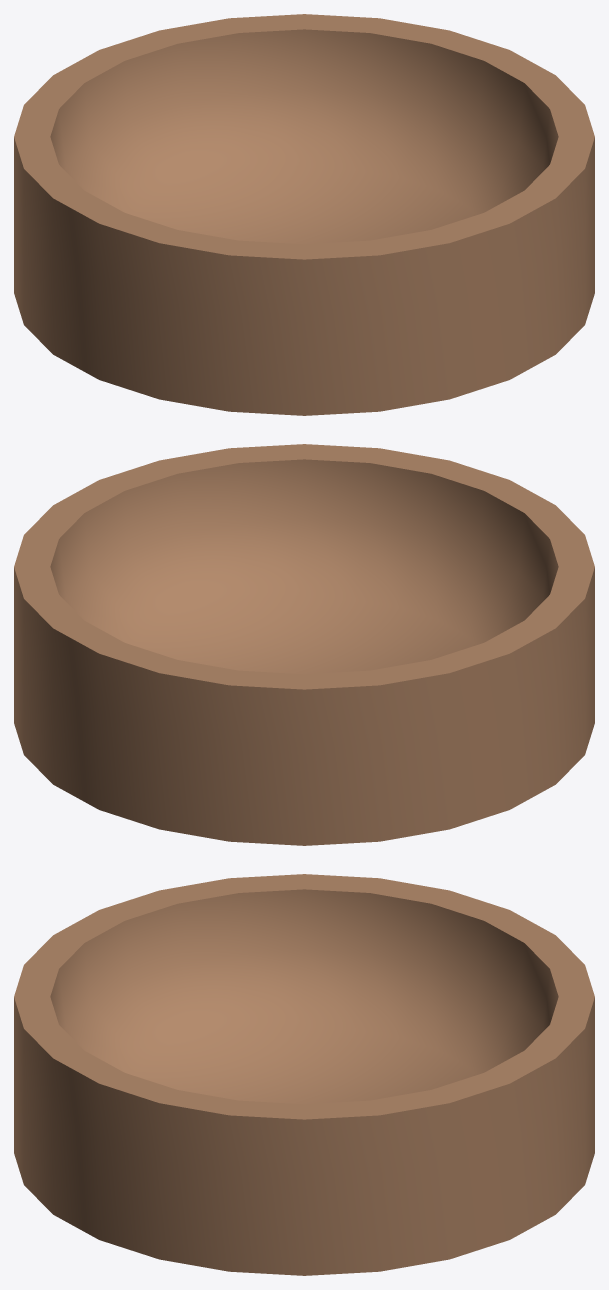
Rendered from primitive-crafting-workshop-pinch-bowl-5a3da9b2__21579.glb.
3 renders of one model, top to bottom at view 1: azimuth 30°, elevation 25°; view 2: azimuth 150°, elevation 25°; view 3: azimuth 270°, elevation 25°, orthographic.
Visible parts, largest first — view 1: pinch-bowl; view 2: pinch-bowl; view 3: pinch-bowl.
Part boxes in pixels (x1,y1,x2,y2): pinch-bowl: [14, 14, 594, 415]; pinch-bowl: [14, 444, 594, 845]; pinch-bowl: [14, 874, 594, 1275].
Size of the model in its own units: 0.24 by 0.075 by 0.24.
